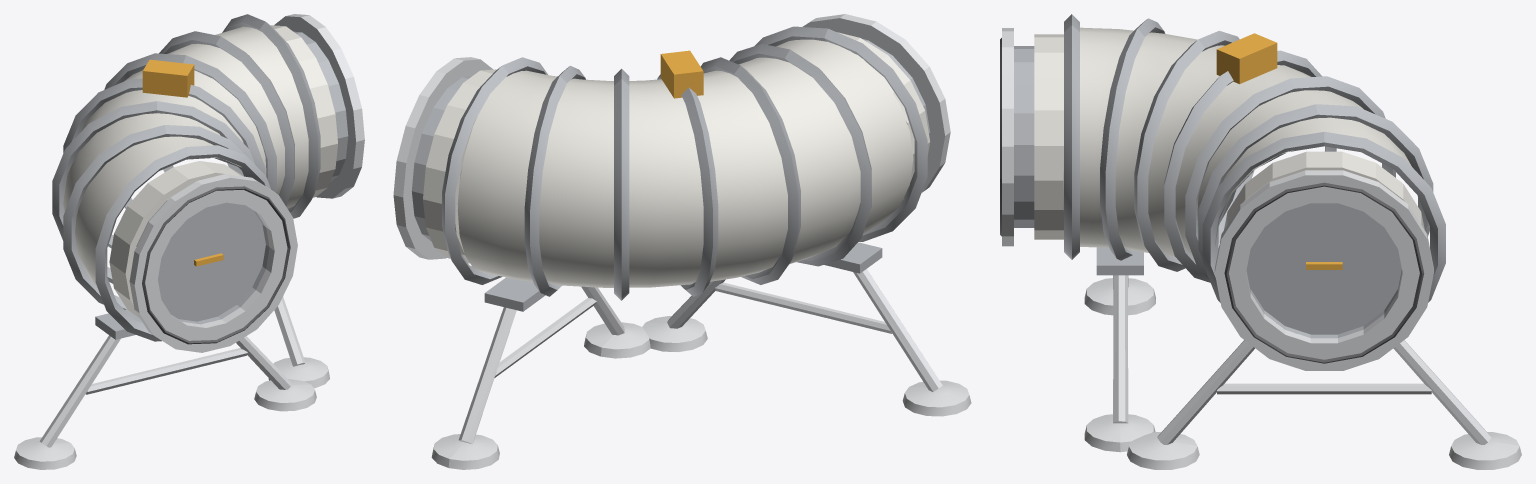
The model's file is connecting-tunnel-elbo-48d05c8f.glb.
3 views of the same model, side by side, from view 1: azimuth 30°, elevation 25°; view 2: azimuth 150°, elevation 25°; view 3: azimuth 270°, elevation 25° (orthographic). The views are drawn at different scales.
Parts seen in each view (by area): view 1: connecting-tunnel-elbow; view 2: connecting-tunnel-elbow; view 3: connecting-tunnel-elbow.
Boxes of the visible parts, <box> form: connecting-tunnel-elbow: <box>14,14,364,469</box>; connecting-tunnel-elbow: <box>393,14,971,469</box>; connecting-tunnel-elbow: <box>1000,14,1521,469</box>.
Bounding box in the file's own units: 4.86 × 3.67 × 4.86.
